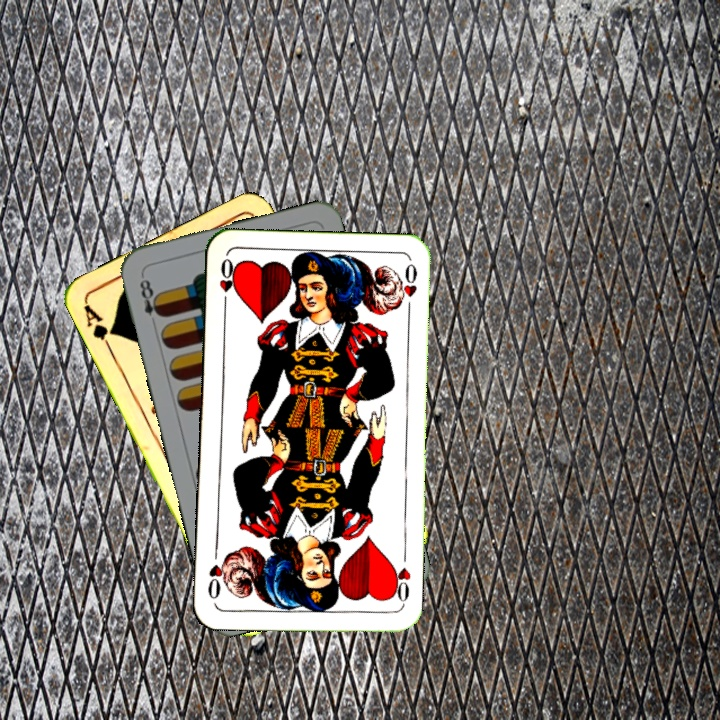E8: (135, 271, 166, 320)
GA: (79, 300, 118, 355)
HO: (215, 254, 237, 313), (387, 560, 414, 608)
